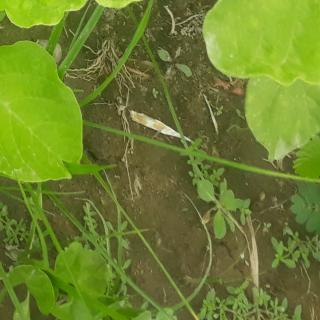karat_putih: (0, 0, 85, 6)
